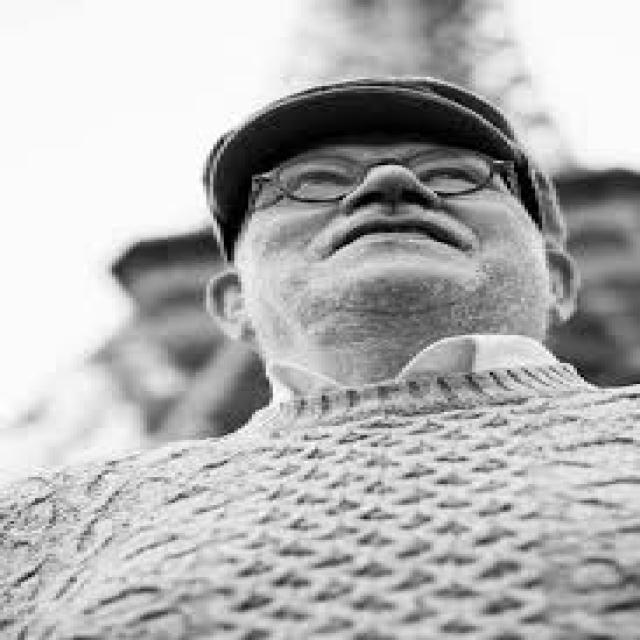cap: (196, 77, 587, 377)
